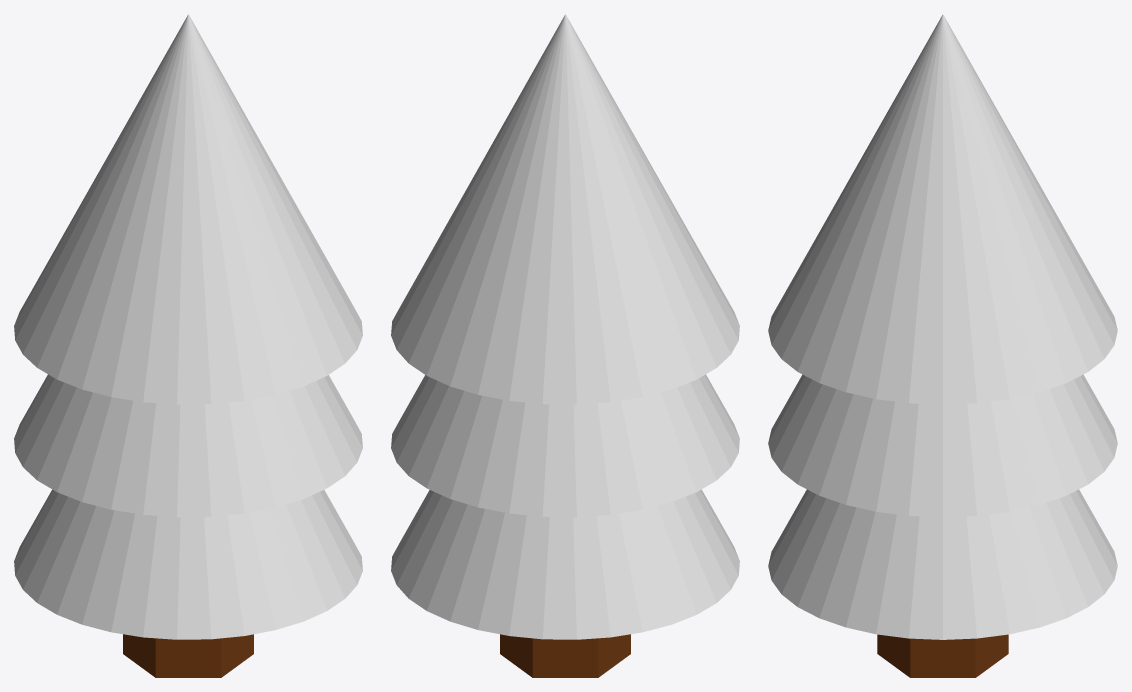
The model's file is pine.fbx.
The picture shows the model from 3 angles, left to right: view 1: azimuth 30°, elevation 25°; view 2: azimuth 150°, elevation 25°; view 3: azimuth 270°, elevation 25°; orthographic projection.
Visible parts, largest first — view 1: Cone.002, Cone, Cone.001, Cylinder; view 2: Cone.002, Cone, Cone.001, Cylinder; view 3: Cone.002, Cone, Cone.001, Cylinder.
Part boxes in pixels (x1,y1,x2,y2): Cone.002: (14, 14, 362, 404); Cone: (14, 489, 362, 639); Cone.001: (14, 374, 362, 517); Cylinder: (123, 634, 253, 677); Cone.002: (391, 14, 739, 404); Cone: (391, 489, 739, 639); Cone.001: (391, 374, 739, 517); Cylinder: (500, 634, 630, 677); Cone.002: (768, 14, 1117, 404); Cone: (768, 489, 1117, 639); Cone.001: (768, 374, 1117, 517); Cylinder: (877, 634, 1008, 677).
Bounding box in the file's own units: 533 × 1077 × 533.
